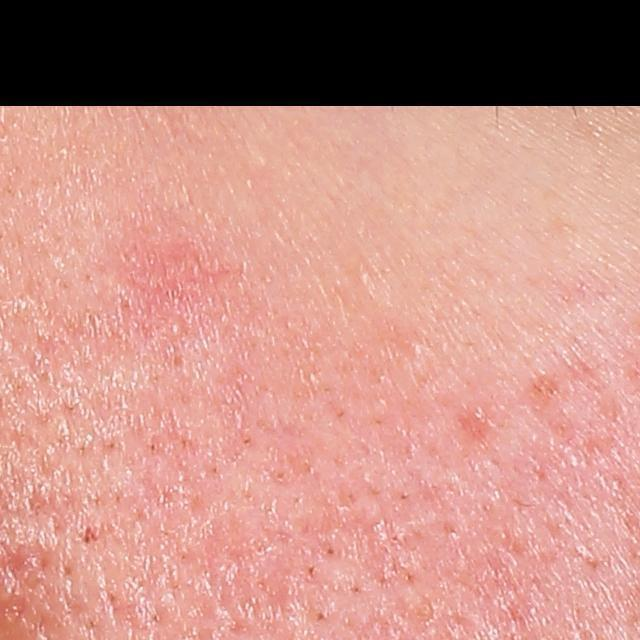comedo: (163, 315, 189, 340)
